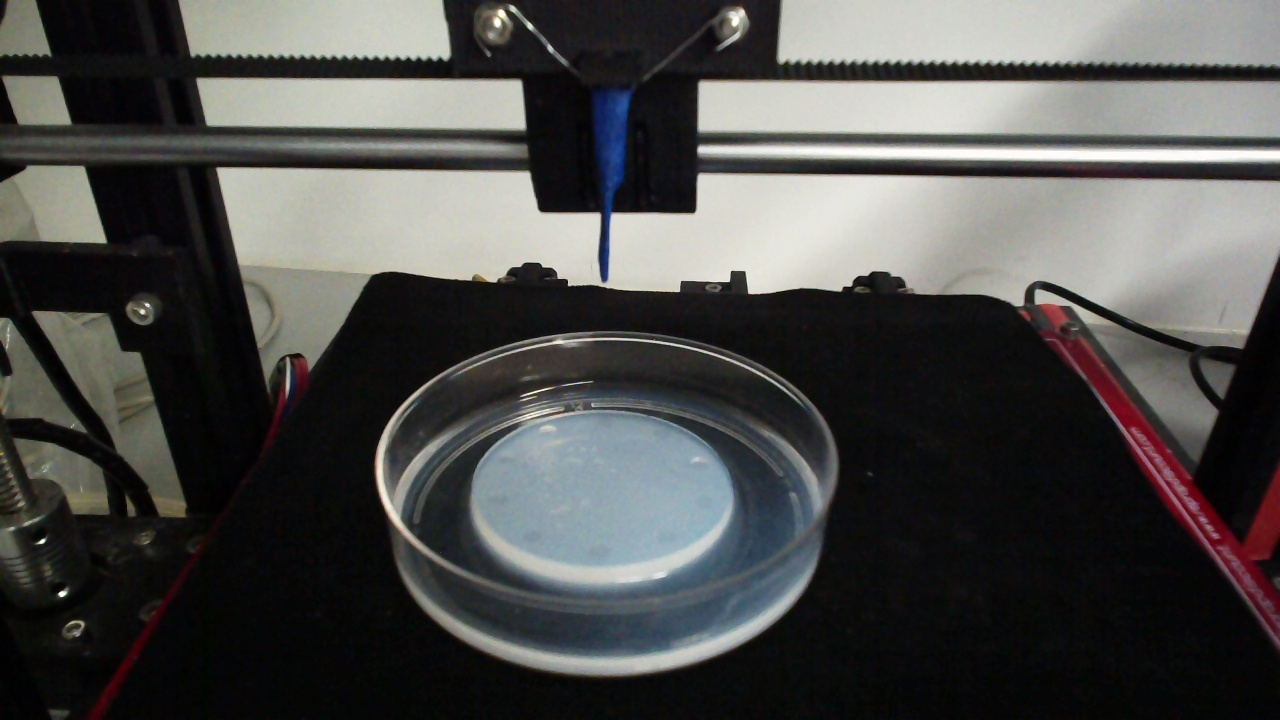groove: (652, 528, 677, 546), (585, 542, 612, 558), (484, 490, 510, 506), (650, 425, 674, 442), (692, 492, 714, 510), (519, 528, 542, 544), (495, 450, 516, 466), (689, 456, 710, 472), (595, 415, 615, 431), (535, 424, 556, 436)
needle: (596, 88, 629, 282)
